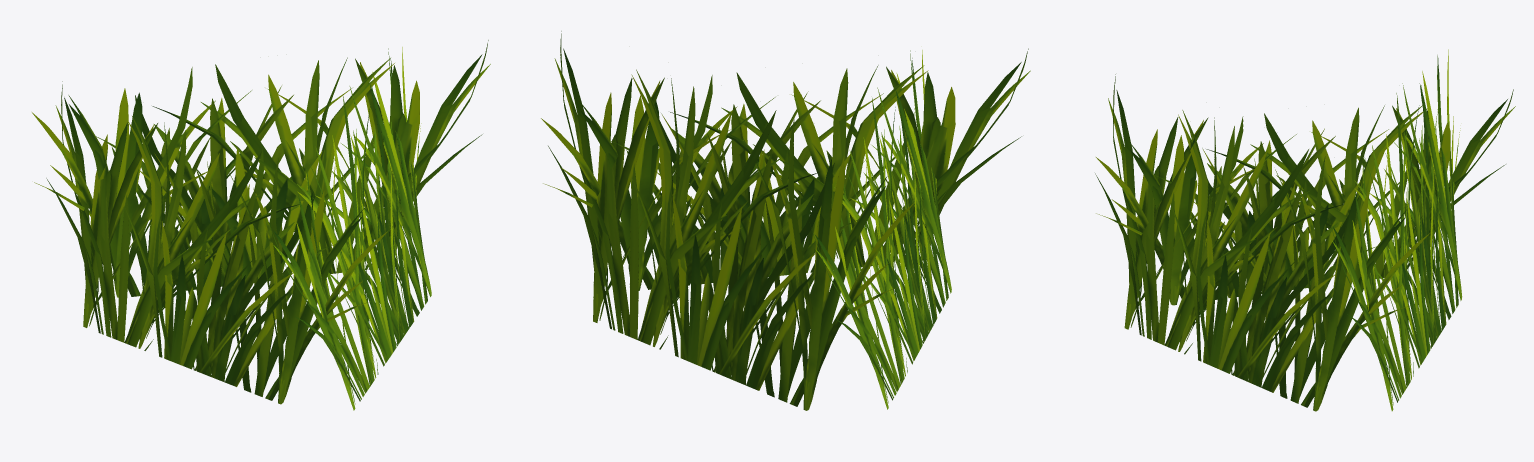
The model's file is GrassBlade_LOD0.fbx.
The picture shows the model from 3 angles, left to right: view 1: azimuth 30°, elevation 25°; view 2: azimuth 150°, elevation 25°; view 3: azimuth 270°, elevation 25°; orthographic projection. The views are drawn at different scales.
Parts seen in each view (by area): view 1: GrassBlades; view 2: GrassBlades; view 3: GrassBlades.
Part boxes in pixels (<box>): GrassBlades: <box>32,40,490,410</box>; GrassBlades: <box>541,31,1030,410</box>; GrassBlades: <box>1095,49,1515,411</box>.
Bounding box in the file's own units: 198 × 112 × 195.
